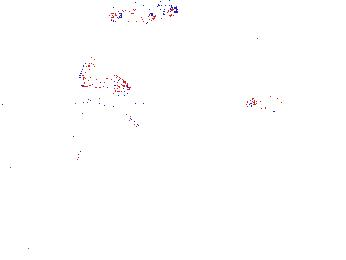glassfish: (62, 92, 159, 145), (1, 91, 74, 141)
red belly glassfish: (246, 96, 308, 114)
redtail glassfish: (78, 60, 138, 98), (106, 4, 181, 29)
